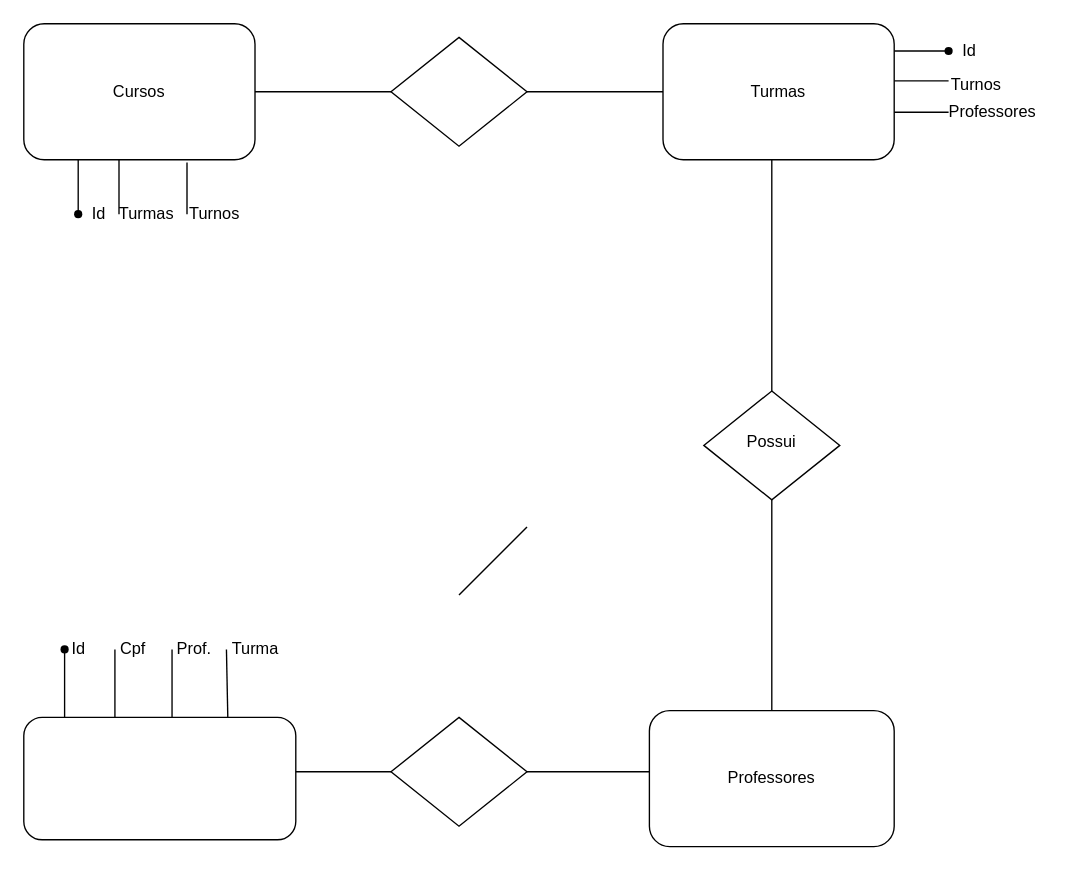
Image size: 1077x870. Some labels were removed from this diagram. The shapes that lost their labels are listed below. From the top down, each one's box as (x1, y1, x2, y2) in pixels, then its label:
(390, 36, 527, 146): Contem
(22, 716, 296, 840): Alunos
(390, 716, 527, 826): Instruem
